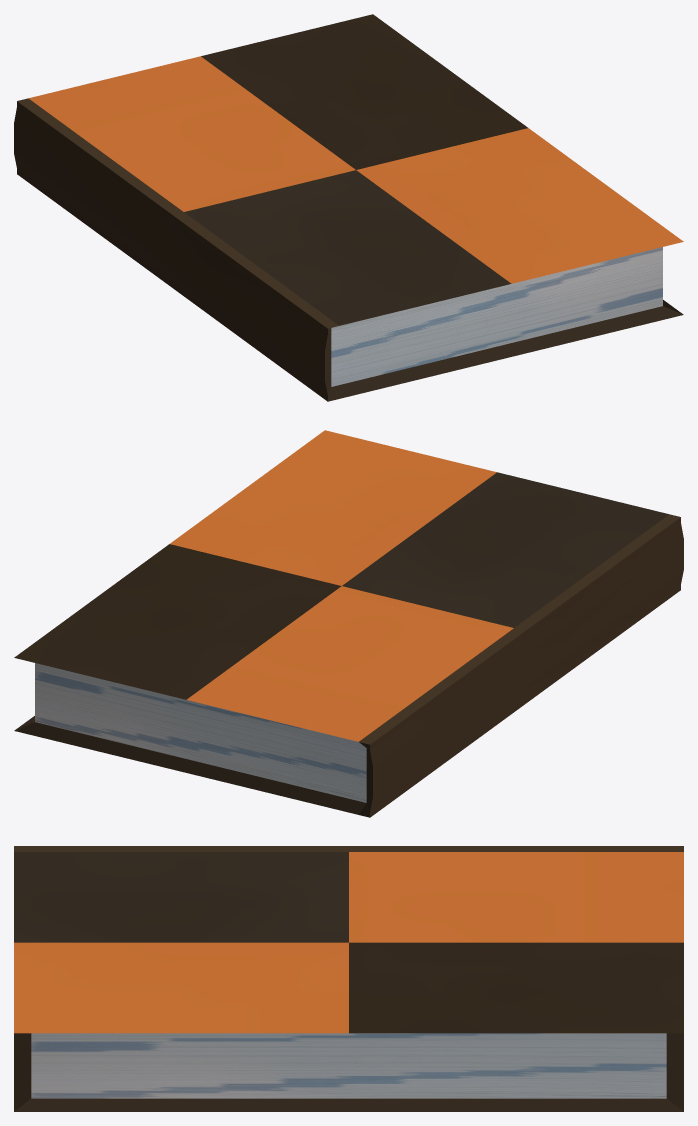
File: book4.obj
The picture shows the model from 3 angles, top to bottom: view 1: azimuth 30°, elevation 25°; view 2: azimuth 150°, elevation 25°; view 3: azimuth 270°, elevation 25°; orthographic projection. The views are drawn at different scales.
Visible parts, largest first — view 1: Cube.008; view 2: Cube.008; view 3: Cube.008.
Part boxes in pixels (x1=…): Cube.008: x1=14, y1=14, x2=683, y2=401; Cube.008: x1=14, y1=430, x2=683, y2=817; Cube.008: x1=14, y1=846, x2=683, y2=1111.
Size of the model in its own units: 0.18 by 0.035 by 0.27.
